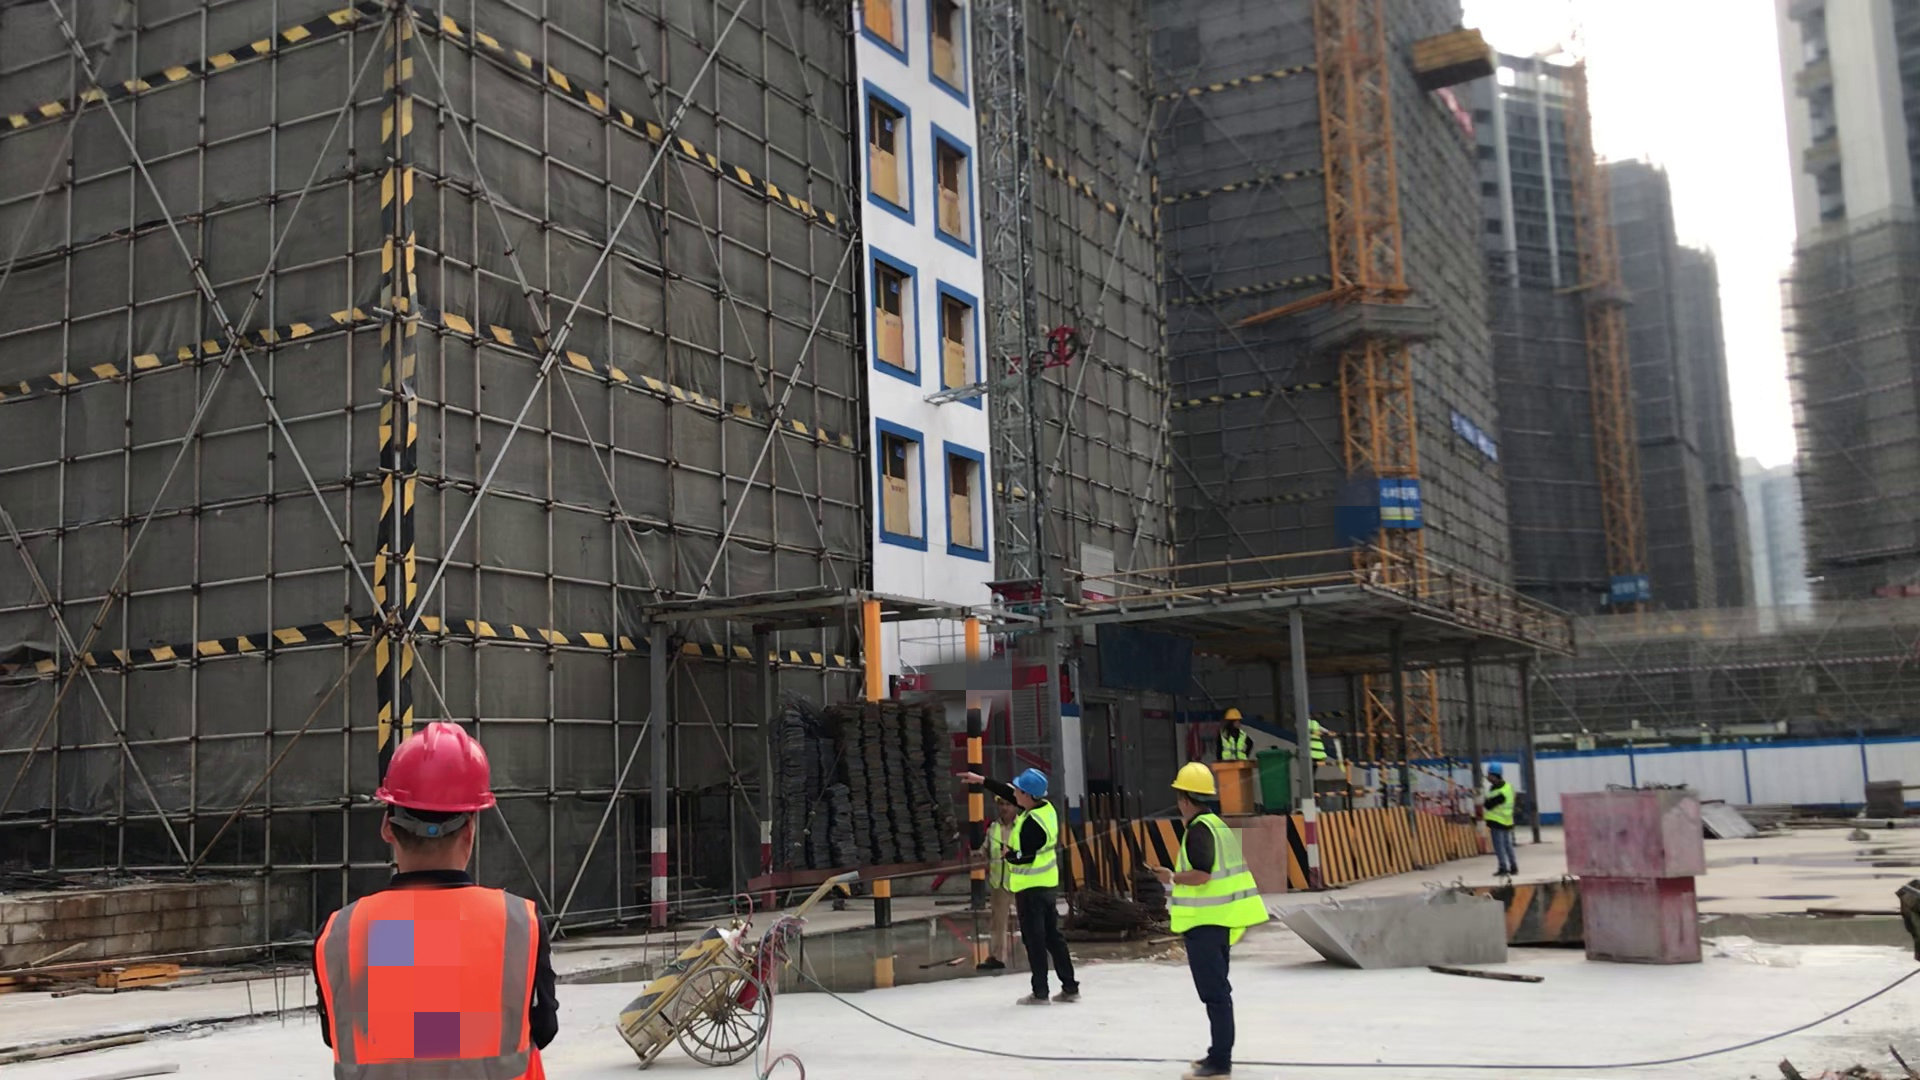handcart: (602, 867, 867, 1067)
helmet: (365, 723, 502, 814), (1168, 761, 1223, 799), (1011, 767, 1049, 797), (1219, 705, 1242, 722), (1486, 761, 1502, 775)
hopper: (1264, 891, 1517, 968)
person: (309, 716, 563, 1080), (1131, 757, 1273, 1080), (988, 763, 1085, 1006), (979, 783, 1037, 982), (1478, 759, 1531, 877), (1212, 701, 1254, 778), (1288, 707, 1329, 781)
vest: (312, 880, 544, 1076), (1158, 813, 1268, 941), (1001, 801, 1064, 895), (1489, 784, 1517, 827)
